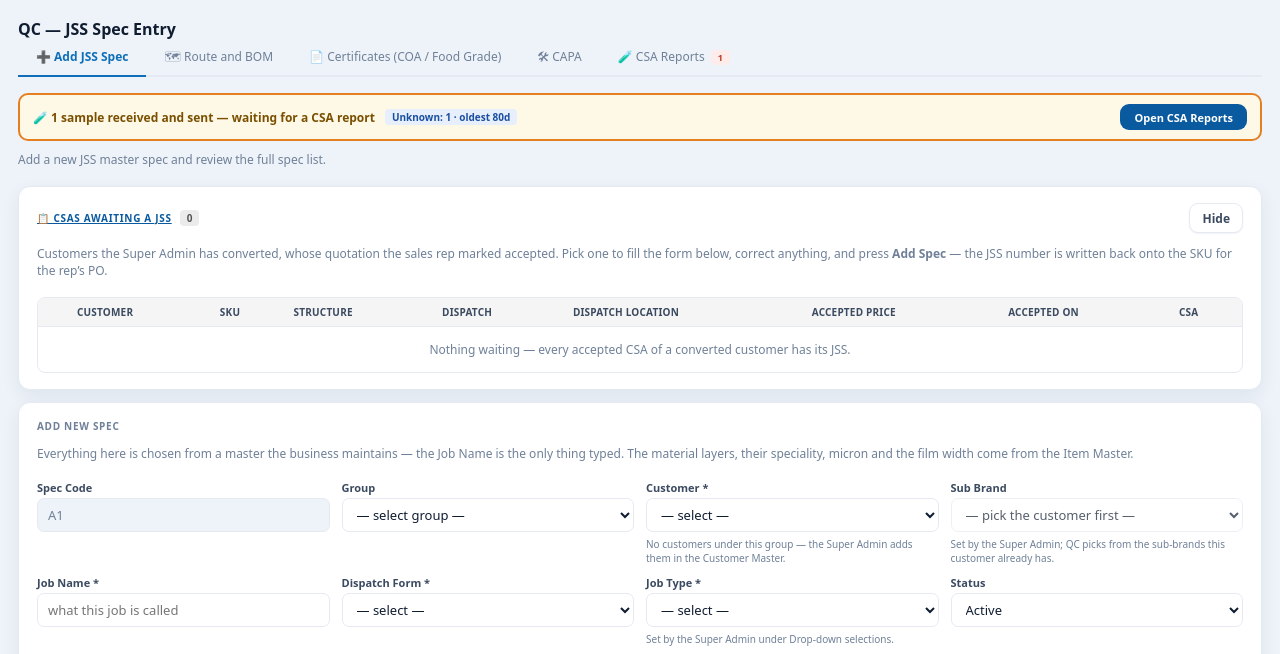
Direct CSA — micron is always a dropdown from the Item Master › an Item Master with no micron at all still shows a select — disabled, and why
The width and height of the screenshot is (1280, 654).
Click the text "🧪 CSA Reports 1" at (674, 56), box 618,48 -> 730,65
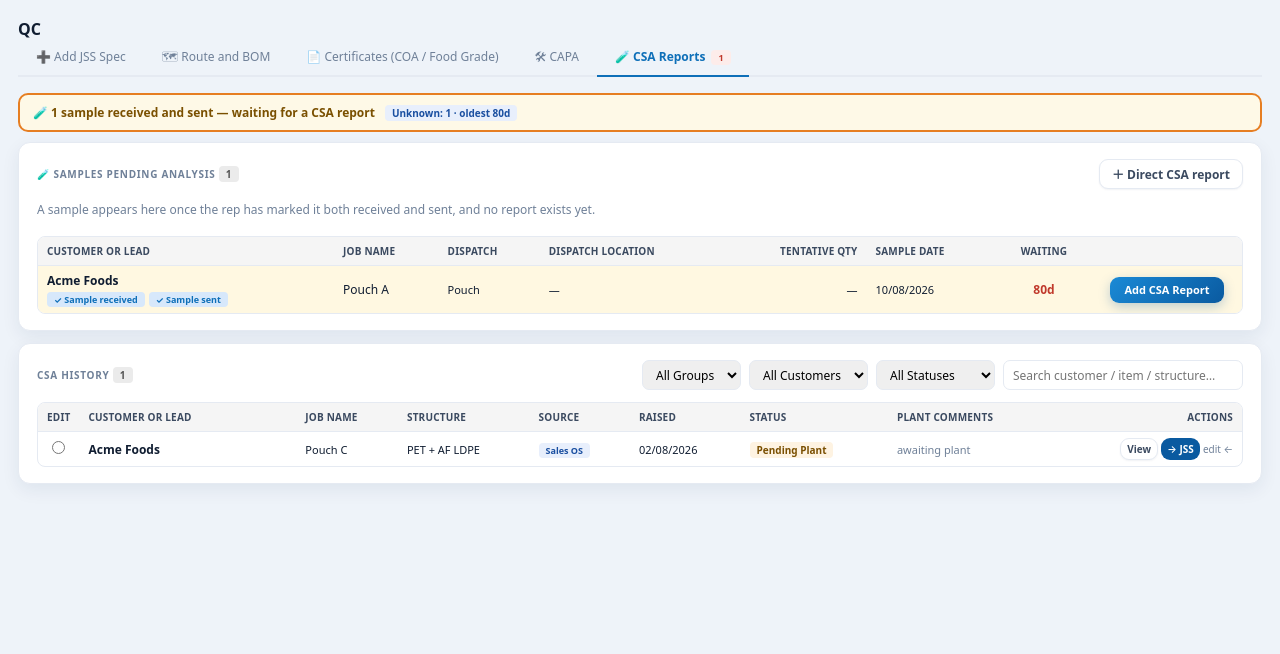
Click the button "＋ Direct CSA report" at (1171, 174), box 1099,159 -> 1243,189
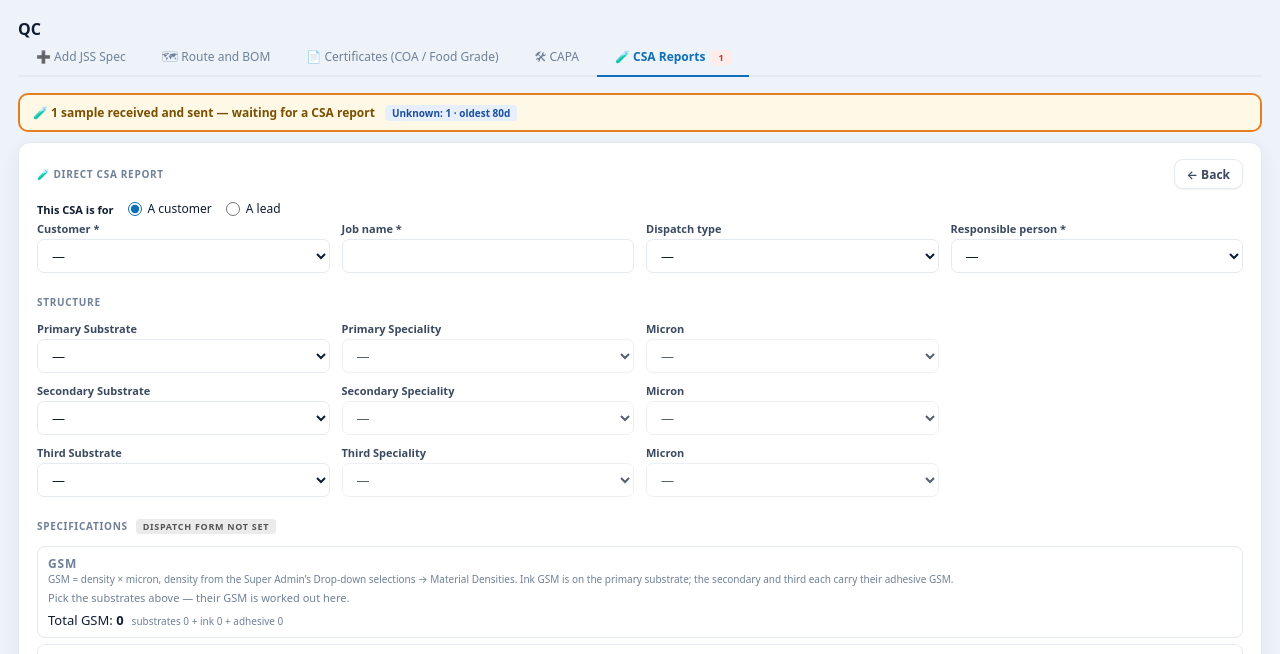
Select "AF BOPP" in the dropdown named "Primary Substrate" at (183, 356), box 37,339 -> 330,373
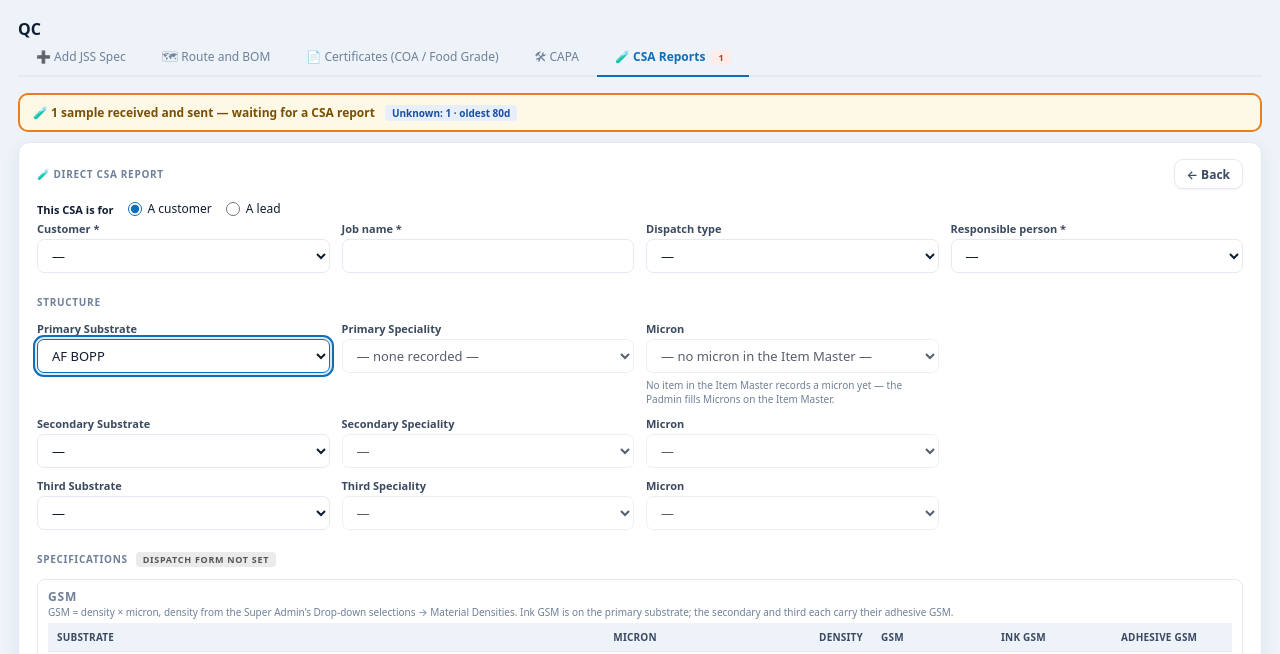
Expected: the dropdown named "Primary Substrate Micron" is disabled, 646,339 -> 938,373
Expected: the text named "Primary micron note" shows "Padmin fills Microns on the Item Master", 646,378 -> 902,406
